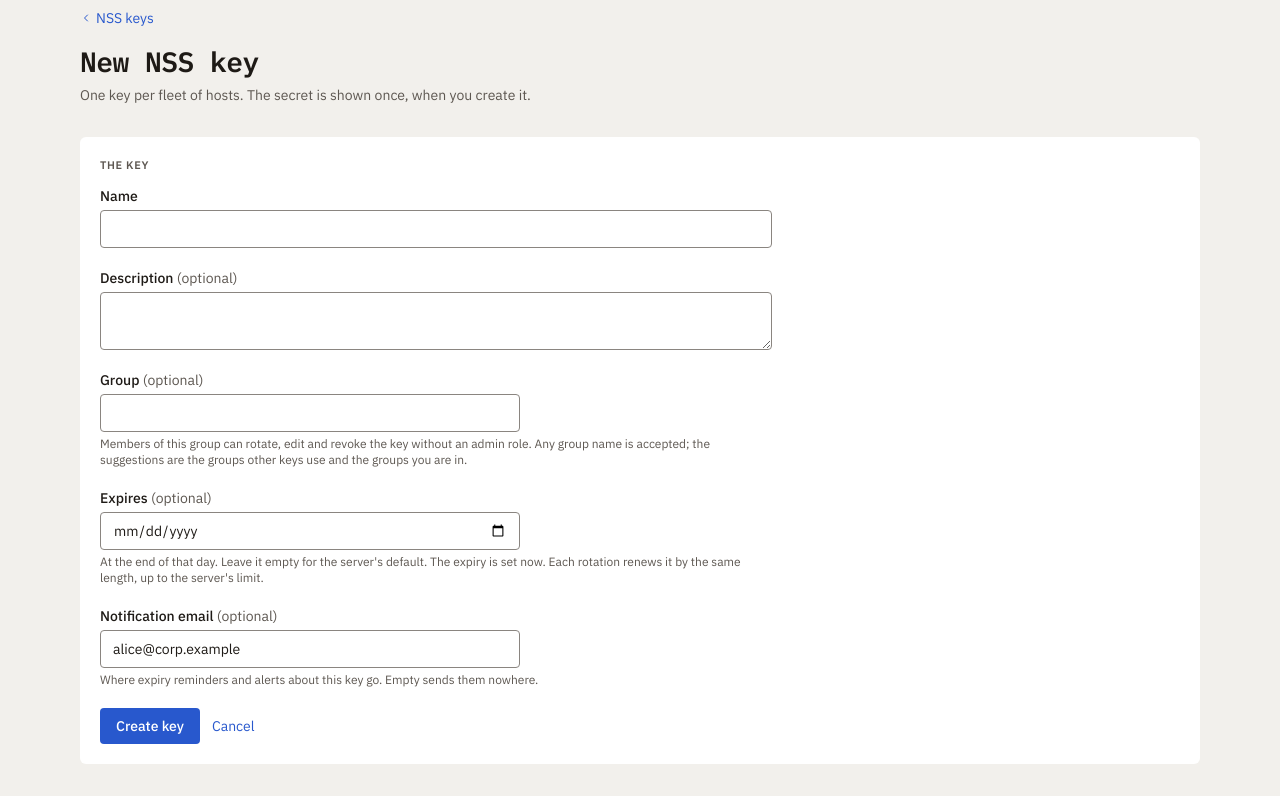
Test: New NSS key › should show the server reason when the create is refused
In the field with test id "nss-key-name": (436, 228) [100,210,772,248], type "web fleet"
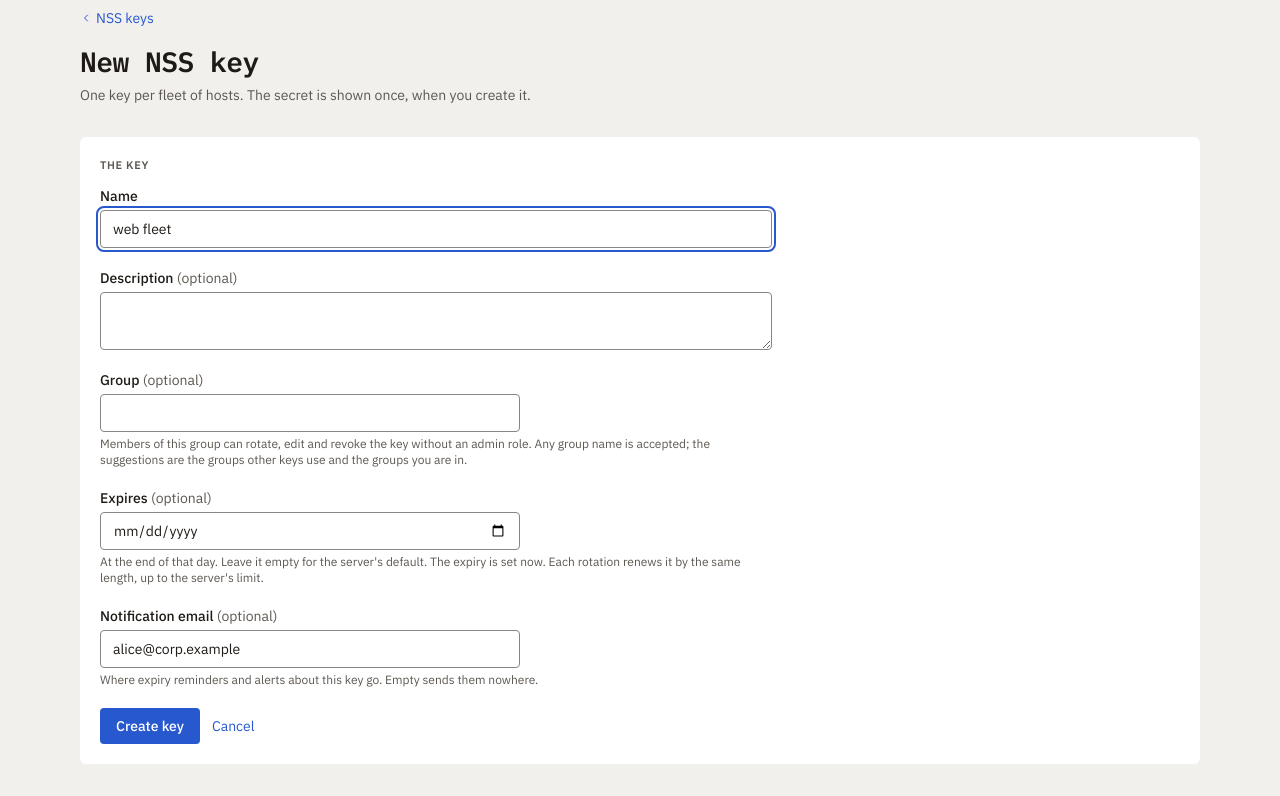
Click the button with test id "nss-key-create": (150, 726) [100,708,200,744]
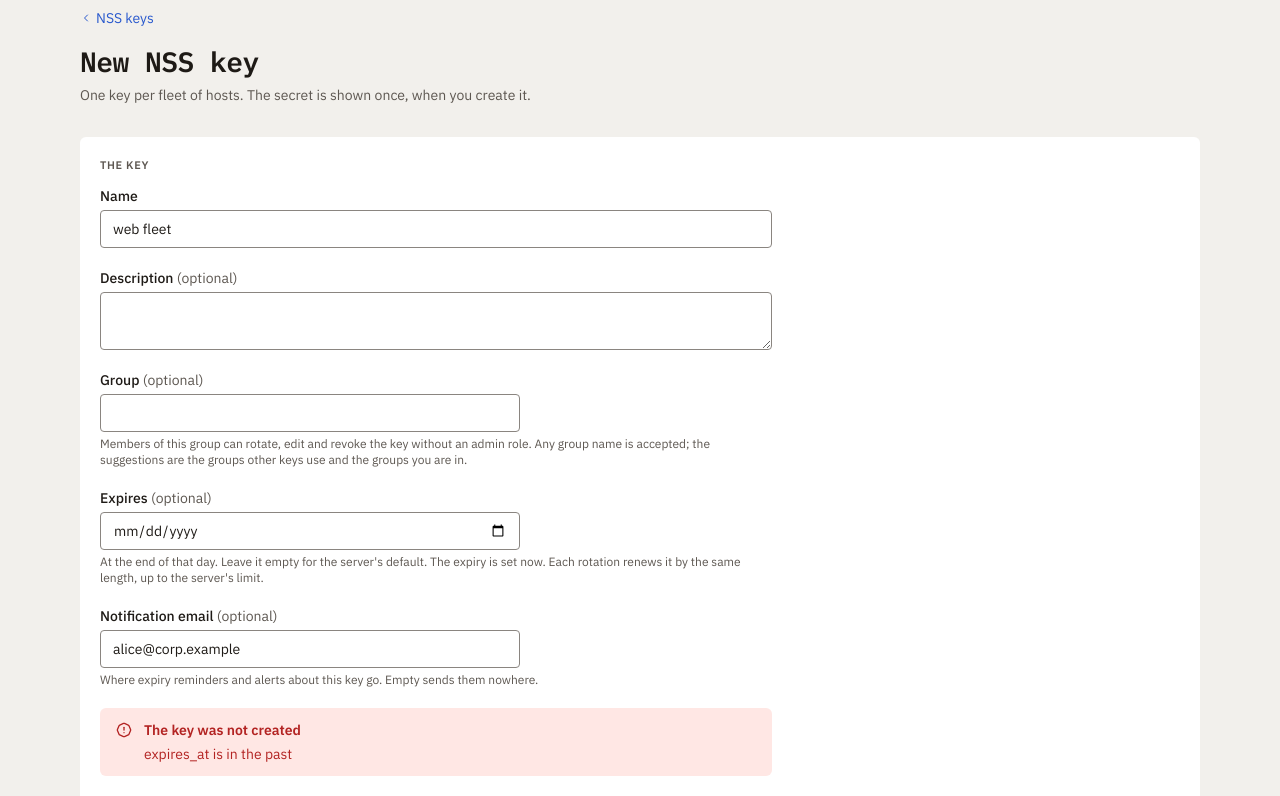
Result: the message with test id "nss-key-create-error" shows "expires_at is in the past" at [144,744,292,762]
